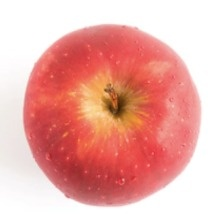apple: (28, 25, 224, 218)
